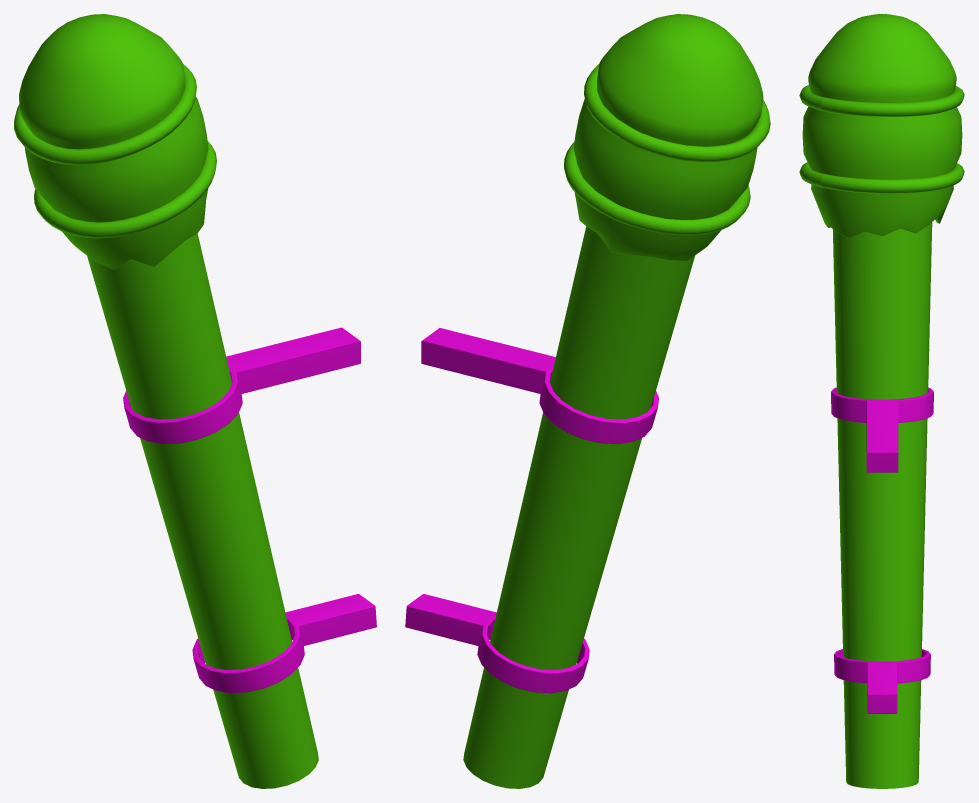
File: Torch_low.fbx
3 renders of one model, left to right at view 1: azimuth 30°, elevation 25°; view 2: azimuth 150°, elevation 25°; view 3: azimuth 270°, elevation 25°, orthographic. The views are drawn at different scales.
Parts seen in each view (by area): view 1: polySurface4, polySurface3; view 2: polySurface4, polySurface3; view 3: polySurface4, polySurface3.
Part boxes in pixels (x1,y1,x2,y2): polySurface4: (14, 14, 318, 788); polySurface3: (123, 327, 376, 693); polySurface4: (463, 14, 770, 788); polySurface3: (405, 328, 658, 693); polySurface4: (799, 14, 964, 788); polySurface3: (831, 387, 933, 713).
Size of the model in its own units: 48.16 by 107 by 23.03.
